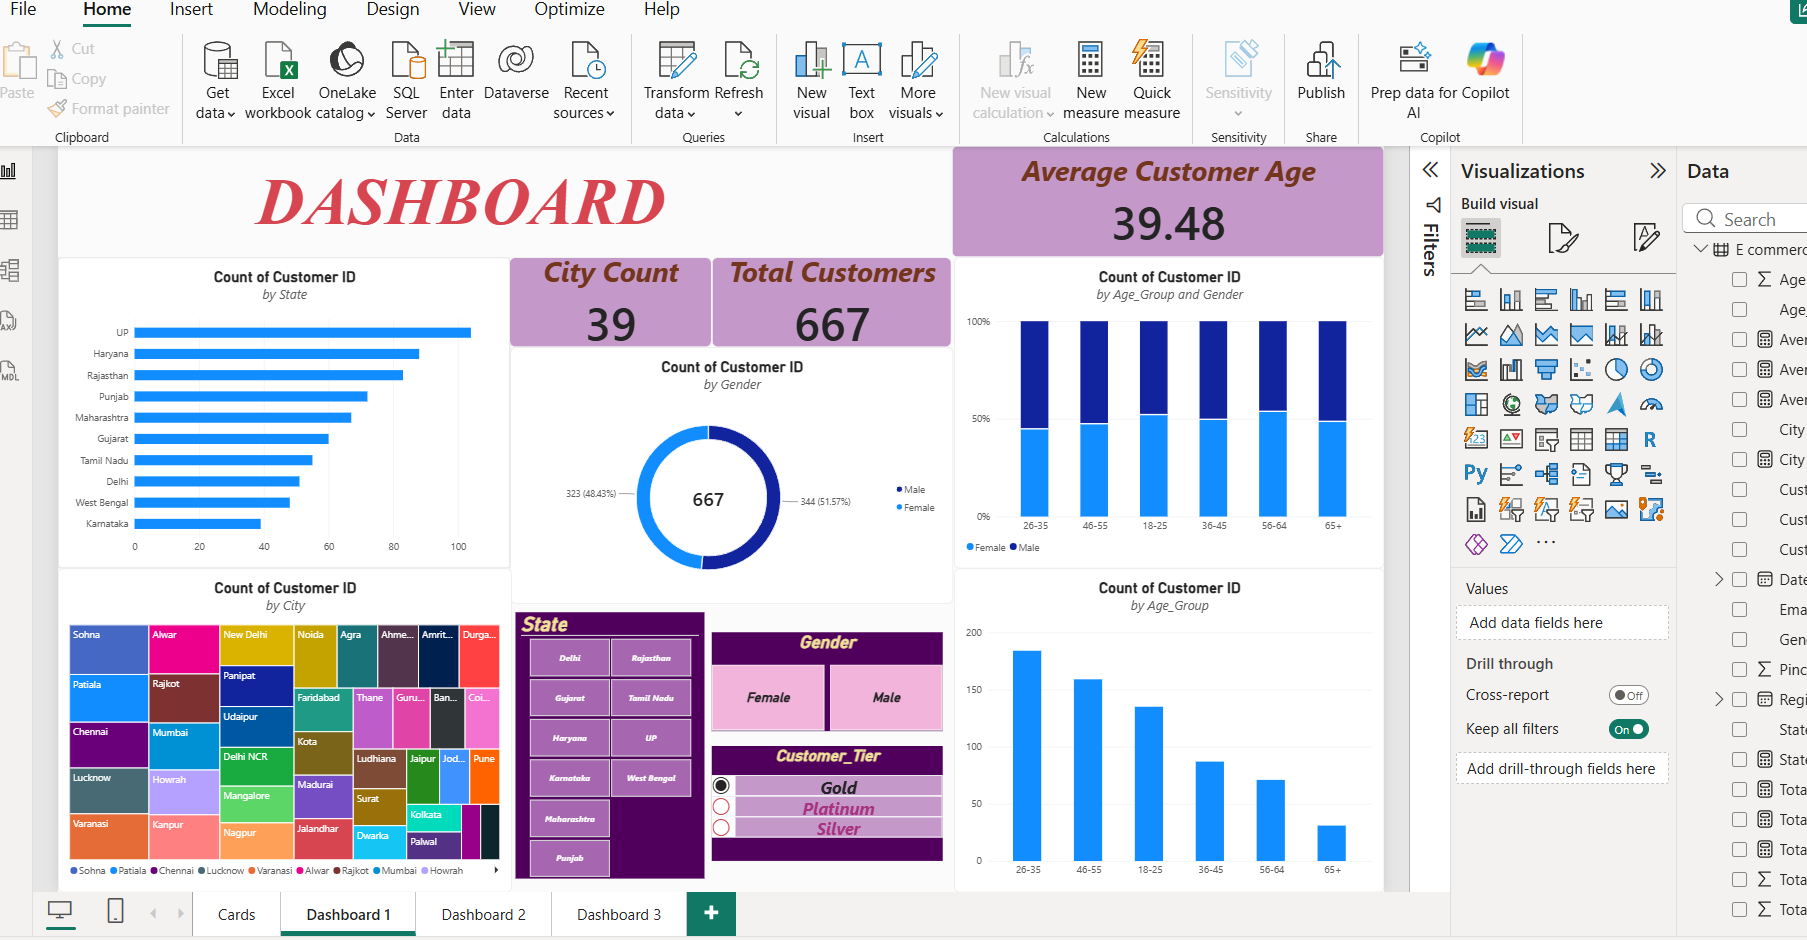

Layout of this report page (visuals, bound fields, positions):
{"tool":"powerbi","page":{"name":"Dashboard 1","canvas":[1920,1080],"ordinal":1},"visuals":[{"type":"clusteredBarChart","fields":{"Category":["E commerce Data.State"],"Y":["CountNonNull(E commerce Data.Customer ID)"]},"box":[0,161.1,655.1,450.6],"z":0},{"type":"donutChart","fields":{"Category":["E commerce Data.Gender"],"Y":["CountNonNull(E commerce Data.Customer ID)"]},"box":[655.1,291.4,640.6,371],"z":1000},{"type":"clusteredColumnChart","fields":{"Category":["E commerce Data.Age_Group"],"Y":["CountNonNull(E commerce Data.Customer ID)"]},"box":[1297.5,611.7,622.5,468.7],"z":2000},{"type":"treemap","fields":{"Group":["E commerce Data.City"],"Values":["CountNonNull(E commerce Data.Customer ID)"]},"box":[0,611.7,656.9,468.7],"z":3000},{"type":"hundredPercentStackedColumnChart","fields":{"Category":["E commerce Data.Age_Group"],"Series":["E commerce Data.Gender"],"Y":["CountNonNull(E commerce Data.Customer ID)"]},"box":[1297.5,161.1,622.5,450.6],"z":4000},{"type":"cardVisual","fields":{"Data":["E commerce Data.Total Customers"]},"box":[946.5,161.1,347.5,130.3],"z":5000},{"type":"cardVisual","fields":{"Data":["E commerce Data.Average Customer Age"]},"box":[1293.9,0,626.1,161.1],"z":6000},{"type":"cardVisual","fields":{"Data":["E commerce Data.City count"]},"box":[653.3,161.1,293.2,130.3],"z":7000},{"type":"slicer","fields":{"Values":["E commerce Data.State"]},"box":[662.3,675,273.3,385.5],"z":10000},{"type":"advancedSlicerVisual","fields":{"Values":["E commerce Data.Gender"]},"box":[946.5,704,334.8,143],"z":11000},{"type":"listSlicer","fields":{"Values":["E commerce Data.Customer_Tier"]},"box":[946.5,868.6,334.8,166.5],"z":12000},{"type":"textbox","box":[0,25.3,1167.2,119.4],"z":13000}]}

Visuals, with their boxes on the page's 1920x1080 design canvas (x1, y1, x2, y2). These are canvas units, not pixel positions in the 1807x940 screenshot, which may show the page scaled, cropped or inside an application window:
clusteredBarChart - E commerce Data.State x CountNonNull(E commerce Data.Customer ID): region(0, 161, 655, 612)
donutChart - E commerce Data.Gender x CountNonNull(E commerce Data.Customer ID): region(655, 291, 1296, 662)
clusteredColumnChart - E commerce Data.Age_Group x CountNonNull(E commerce Data.Customer ID): region(1298, 612, 1920, 1080)
treemap - E commerce Data.City x CountNonNull(E commerce Data.Customer ID): region(0, 612, 657, 1080)
hundredPercentStackedColumnChart - E commerce Data.Age_Group x E commerce Data.Gender: region(1298, 161, 1920, 612)
cardVisual - E commerce Data.Total Customers: region(946, 161, 1294, 291)
cardVisual - E commerce Data.Average Customer Age: region(1294, 0, 1920, 161)
cardVisual - E commerce Data.City count: region(653, 161, 946, 291)
slicer - E commerce Data.State: region(662, 675, 936, 1060)
advancedSlicerVisual - E commerce Data.Gender: region(946, 704, 1281, 847)
listSlicer - E commerce Data.Customer_Tier: region(946, 869, 1281, 1035)
textbox: region(0, 25, 1167, 145)
